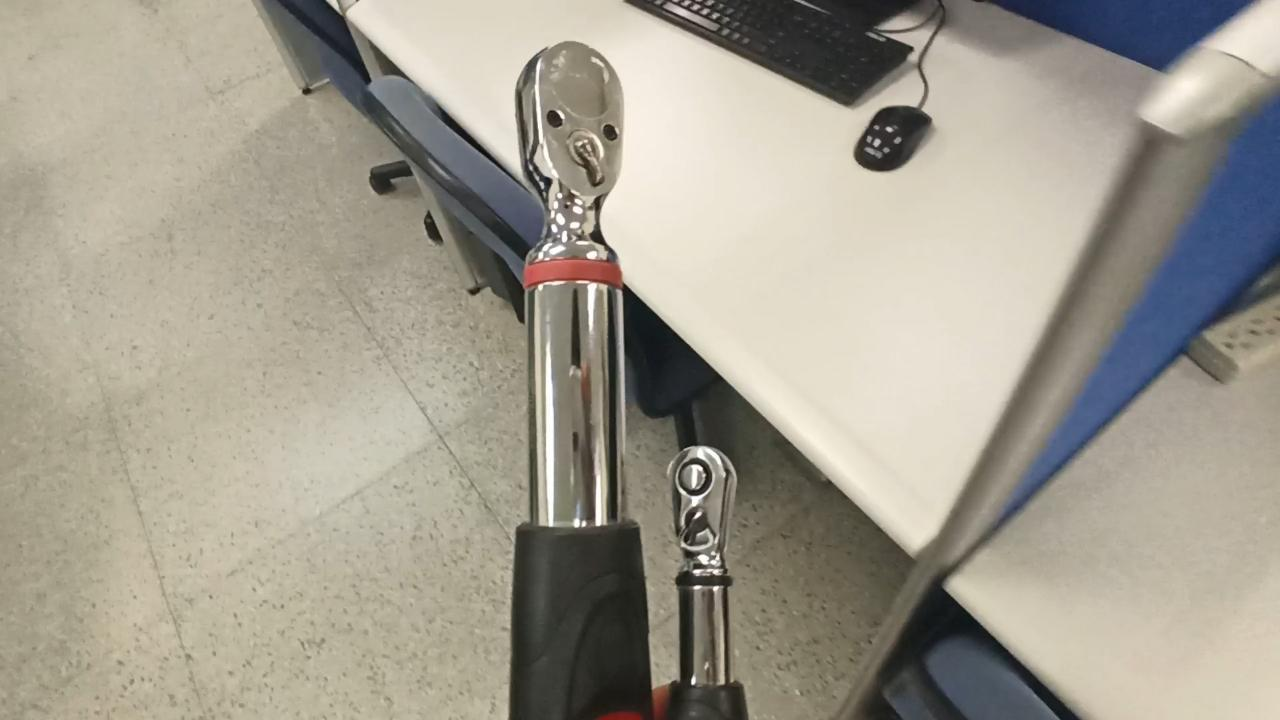Tool: (516, 42, 630, 260), (664, 442, 734, 584)
